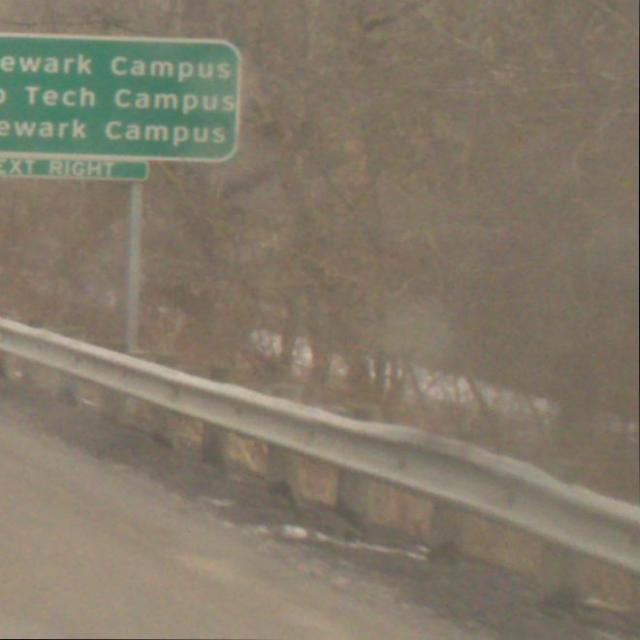Guard rail: (0, 313, 640, 629)
